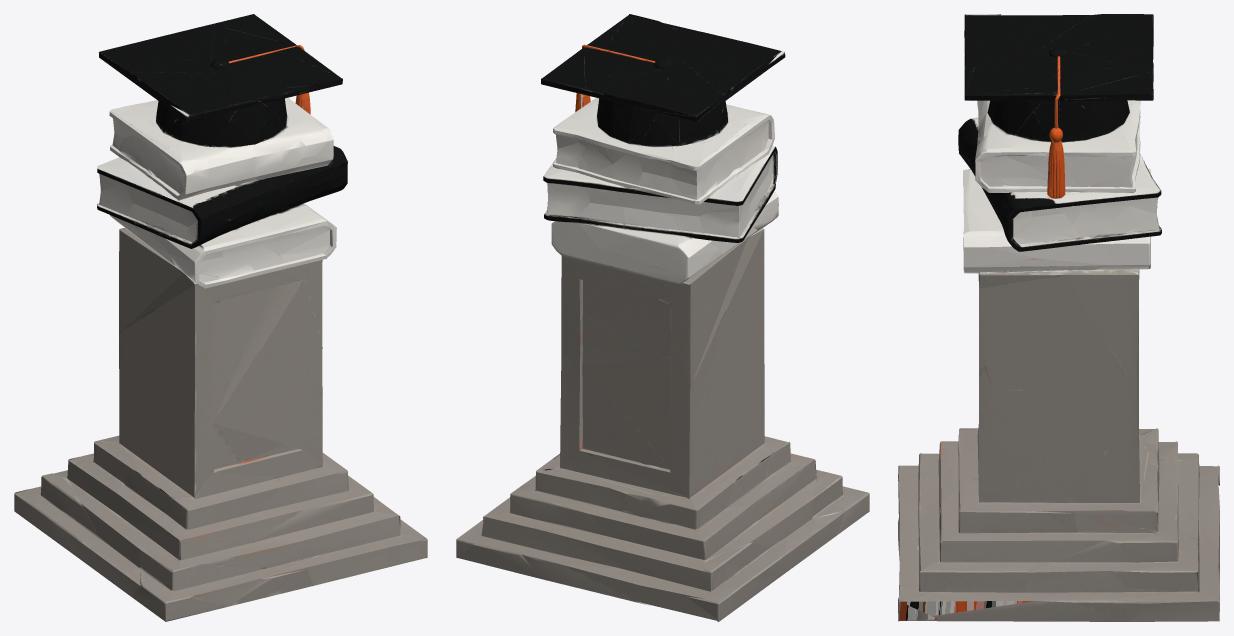
File: scholar.glb
The picture shows the model from 3 angles, left to right: view 1: azimuth 30°, elevation 25°; view 2: azimuth 150°, elevation 25°; view 3: azimuth 270°, elevation 25°; orthographic projection. The views are drawn at different scales.
Size of the model in its own units: 1.1 by 1.9 by 1.1.
1 material, 1 textured.
